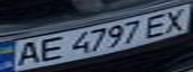4: (66, 28, 93, 56)
7: (121, 17, 148, 45), (87, 25, 112, 53)
9: (106, 21, 130, 50)
A: (6, 38, 45, 69)
E: (30, 35, 69, 63), (139, 11, 175, 38)
X: (157, 7, 193, 35)
